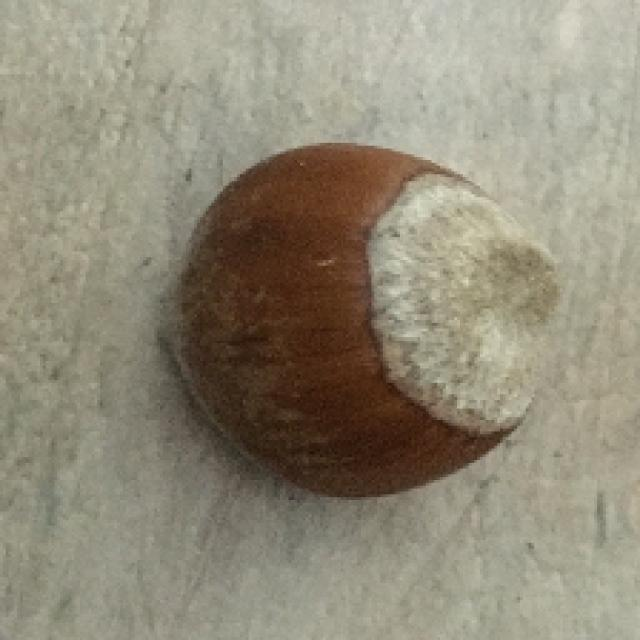qualityHazelnut: (166, 138, 576, 506)
